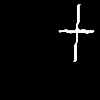single_crochet: (59, 4, 93, 61)
